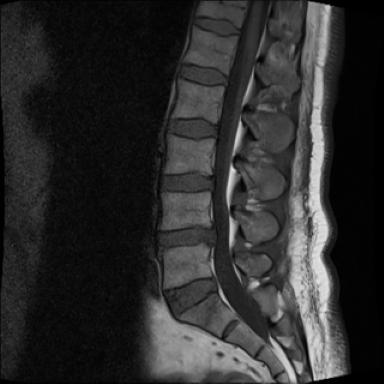Lumbar Disc Bulge (LDB): (149, 211, 233, 257), (153, 163, 219, 195)
Normal IVD: (160, 270, 218, 322), (161, 111, 222, 142), (175, 62, 232, 88), (190, 14, 243, 37)
Spinal Stenosis (SS): (196, 157, 227, 197), (200, 213, 224, 255)
